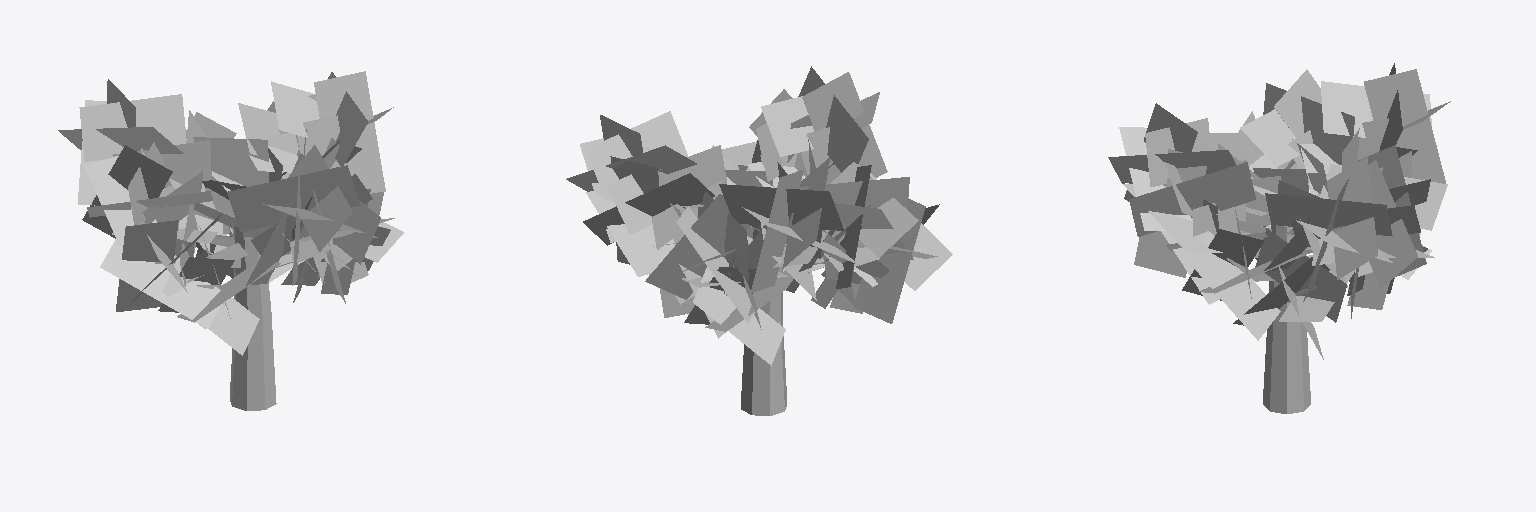
Rendered from acacia.obj.
3 renders of one model, left to right at view 1: azimuth 30°, elevation 25°; view 2: azimuth 150°, elevation 25°; view 3: azimuth 270°, elevation 25°, orthographic.
Visible parts, largest first — view 1: plant; view 2: plant; view 3: plant.
Part boxes in pixels (x1,y1,x2,y2): plant: (58, 71, 403, 410); plant: (566, 66, 952, 415); plant: (1108, 63, 1450, 413).
Bounding box in the file's own units: 28.37 × 24.55 × 25.85.